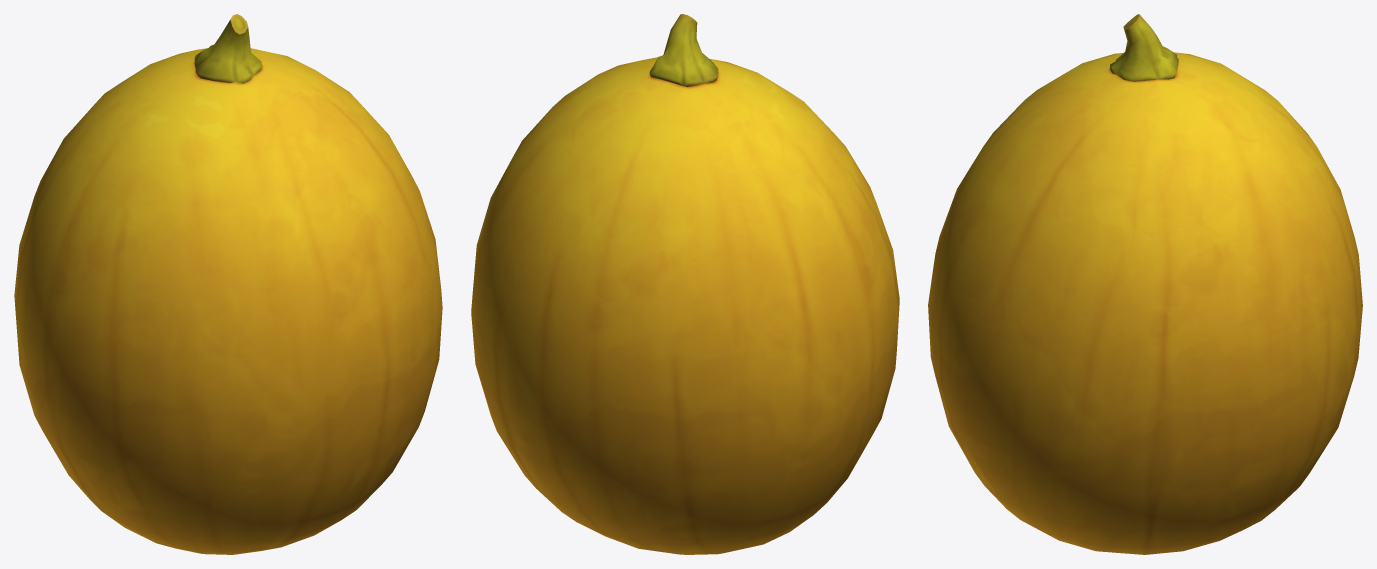
File: SM_HoneydewMelon.fbx
3 views of the same model, side by side, from view 1: azimuth 30°, elevation 25°; view 2: azimuth 150°, elevation 25°; view 3: azimuth 270°, elevation 25° (orthographic).
Visible parts, largest first — view 1: SM_HoneydewMelon; view 2: SM_HoneydewMelon; view 3: SM_HoneydewMelon.
Part boxes in pixels (x1,y1,x2,y2): SM_HoneydewMelon: (14,14,442,554); SM_HoneydewMelon: (471,14,899,554); SM_HoneydewMelon: (928,14,1362,554).
Size of the model in its own units: 24.49 by 32.21 by 24.5.
